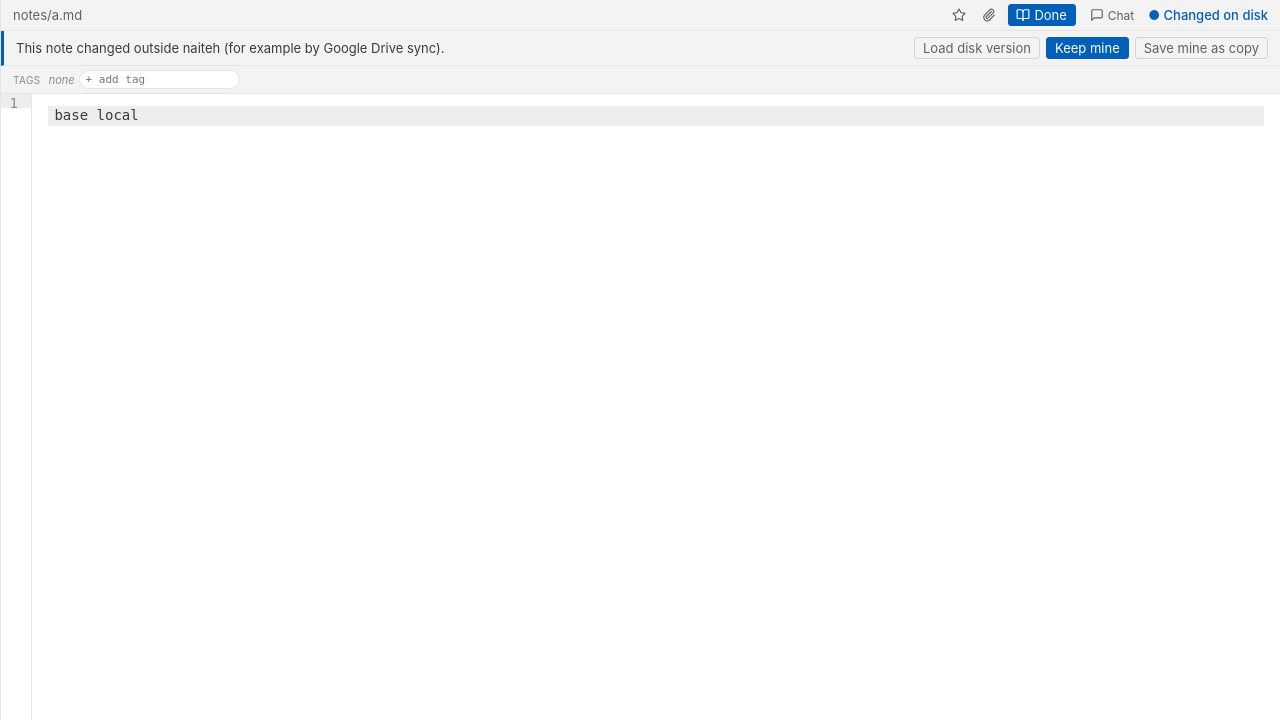
Test: EditorPanel changed-on-disk conflict › Load disk version discards local edits and shows the file from disk
Step 1. Click the button with test id "external-change-load" → (977,48), box [914,37,1040,59]
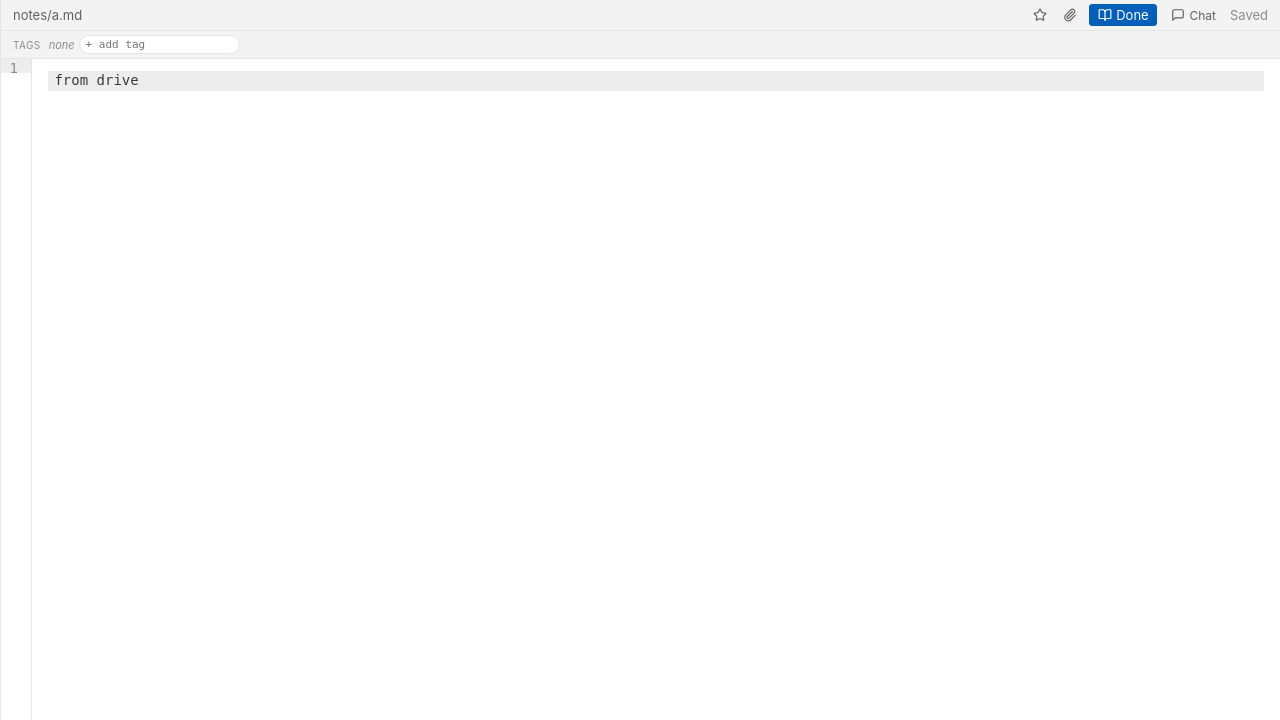
Now the text box labelled "from drive" is shown, box [48,71,1264,91]
Now the message with test id "editor-external-change" is gone
Now the text with test id "editor-status" reads "Saved", box [1230,7,1268,23]
